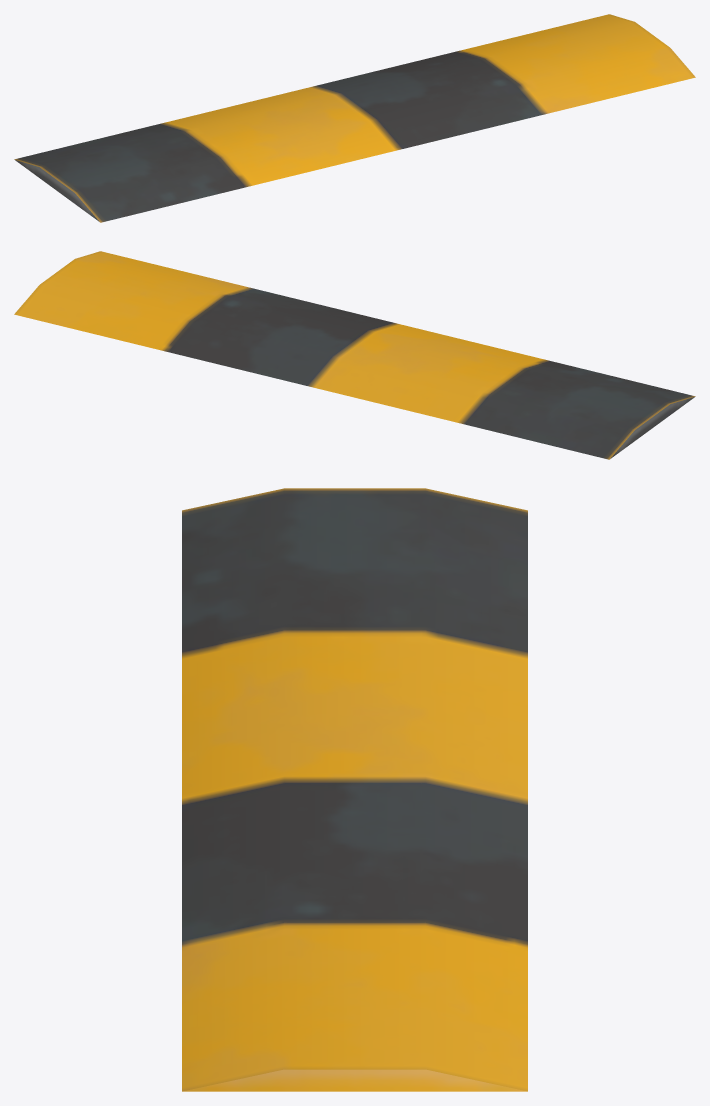
The model's file is Pfb_Roadblock13.fbx.
3 views of the same model, one above another, from view 1: azimuth 30°, elevation 25°; view 2: azimuth 150°, elevation 25°; view 3: azimuth 270°, elevation 25° (orthographic). The views are drawn at different scales.
Parts seen in each view (by area): view 1: Mat_Roadblocks01; view 2: Mat_Roadblocks01; view 3: Mat_Roadblocks01.
Boxes of the visible parts, x1,y1,x2,y2 form: Mat_Roadblocks01: [14, 14, 695, 222]; Mat_Roadblocks01: [14, 251, 695, 459]; Mat_Roadblocks01: [182, 488, 527, 1091].
Size of the model in its own units: 2.66 by 0.047 by 0.6689.
Materials: 1 (1 with a texture image).
